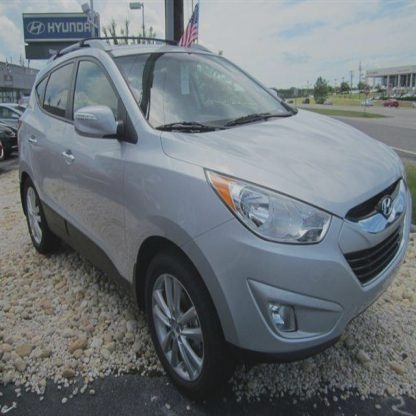Vehicle: (18, 35, 413, 398)
